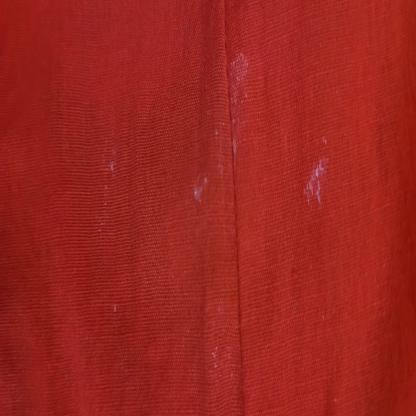spot: (222, 25, 250, 160), (299, 144, 333, 222), (99, 150, 125, 235), (208, 322, 225, 384), (187, 172, 215, 209)
